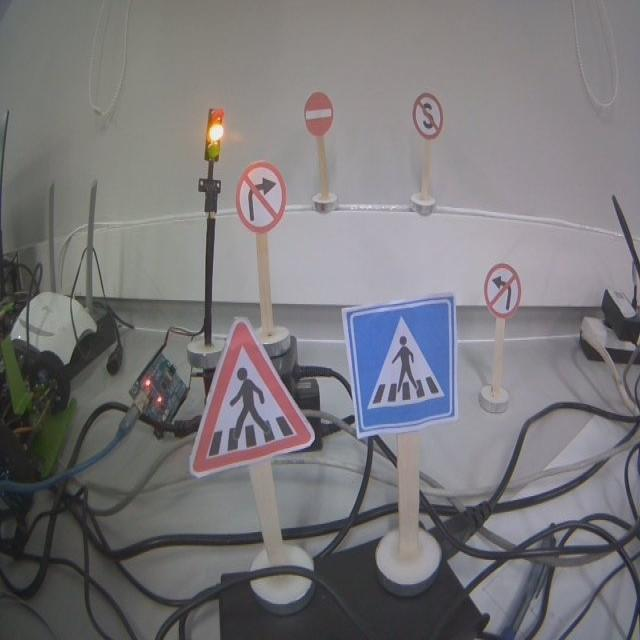Dilarang Belok Kanan: (235, 162, 287, 234)
Dilarang Belok Kiri: (484, 264, 521, 316)
Dilarang Masuk: (303, 94, 335, 138)
Lampu Kuning: (205, 108, 223, 161)
Rambu Berhenti: (415, 92, 443, 137)
Rambu Penyebrangan: (190, 320, 313, 475), (340, 292, 458, 436)
